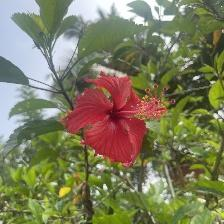hibiscus: (63, 70, 182, 170)
